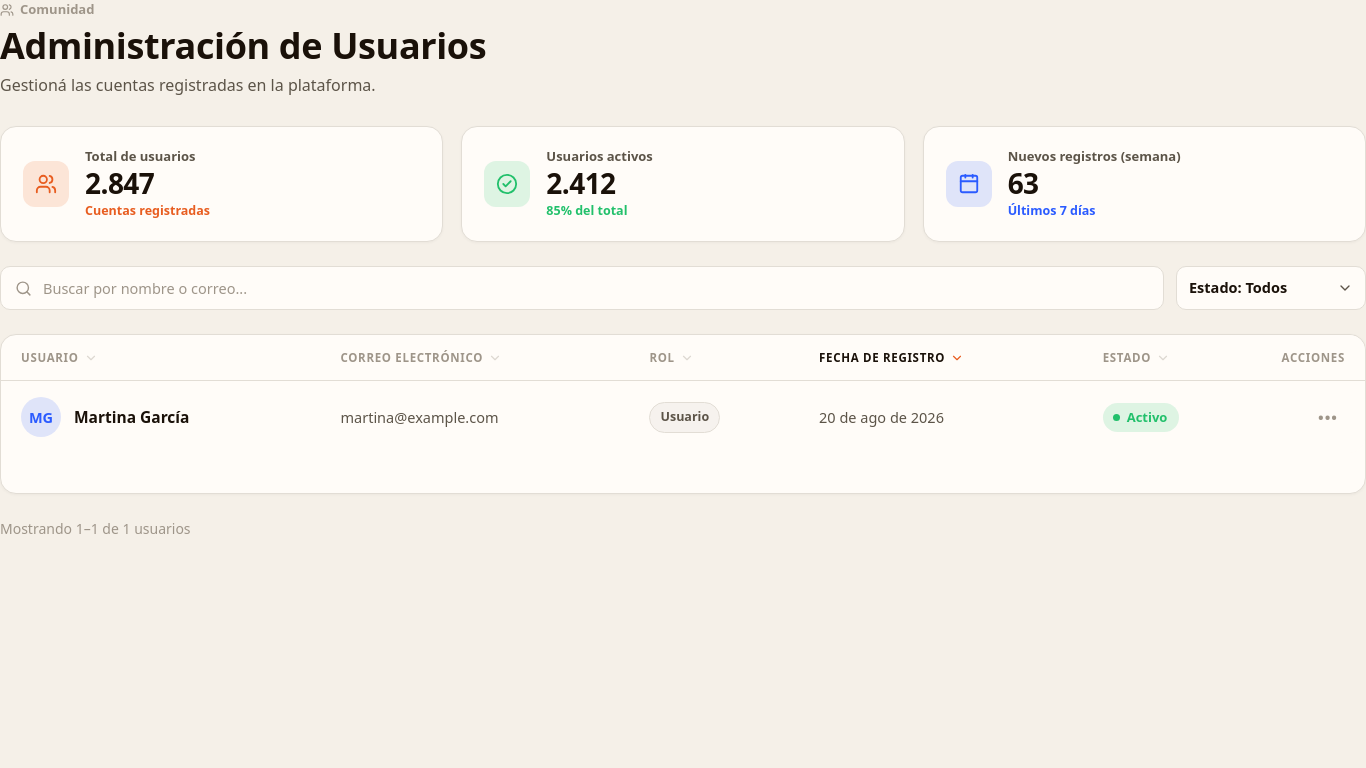
Test: AdminUsersView › opens a read-only user view from the user cell
Expected: the text "Martina García" is shown, [74,406,189,429]
Click the button with aria-label "Ver detalle de Martina García" at (161, 417), box [1,381,320,453]
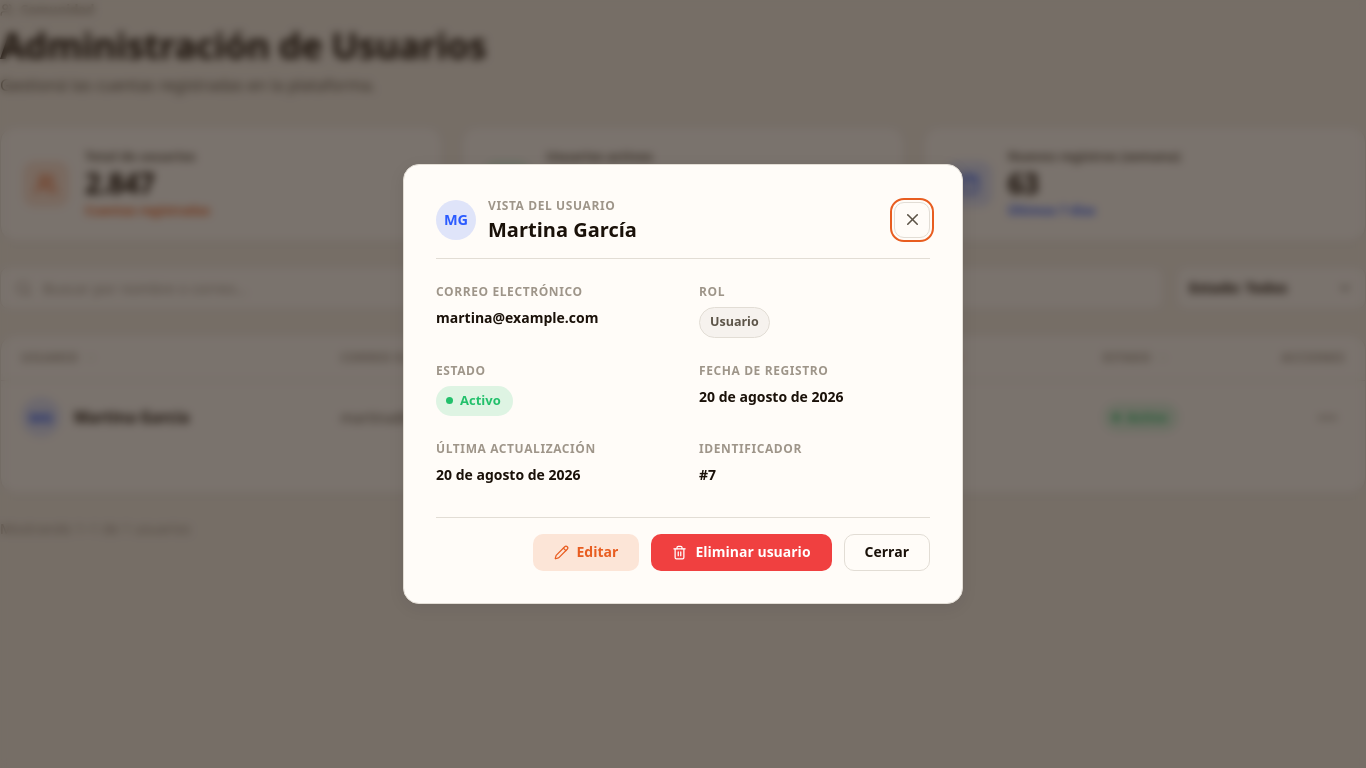
Expected: the text "martina@example.com" is shown, [436,308,598,327]
Expected: the text "Usuario" is shown, [699,307,770,338]
Expected: the text "#7" is shown, [699,465,716,484]
